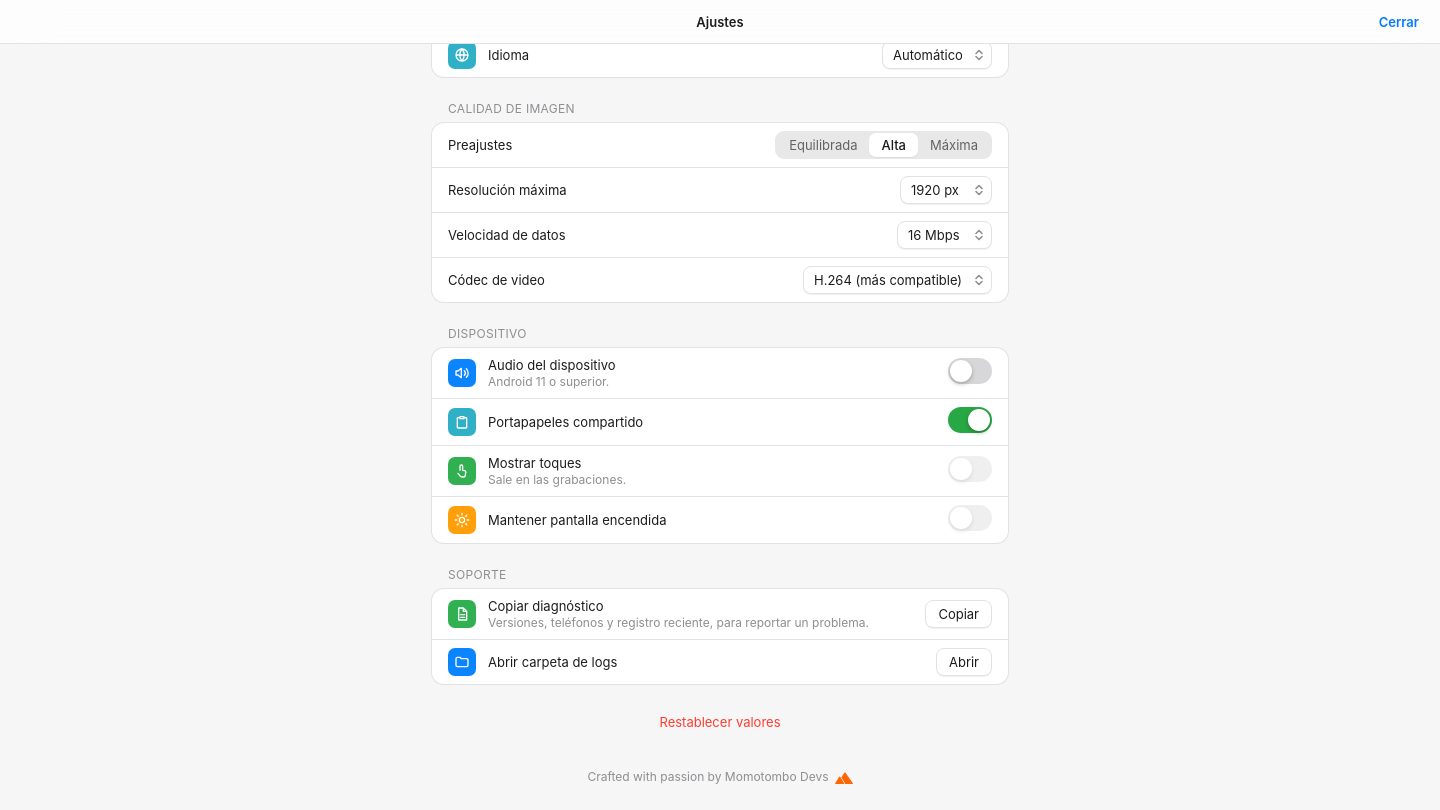
it: SettingsPanel › copies the diagnostic report and confirms it on the button
The width and height of the screenshot is (1440, 810).
(page scrolled)
Click the button with aria-label "Copiar diagnóstico" at (959, 614), box [925,600,992,628]
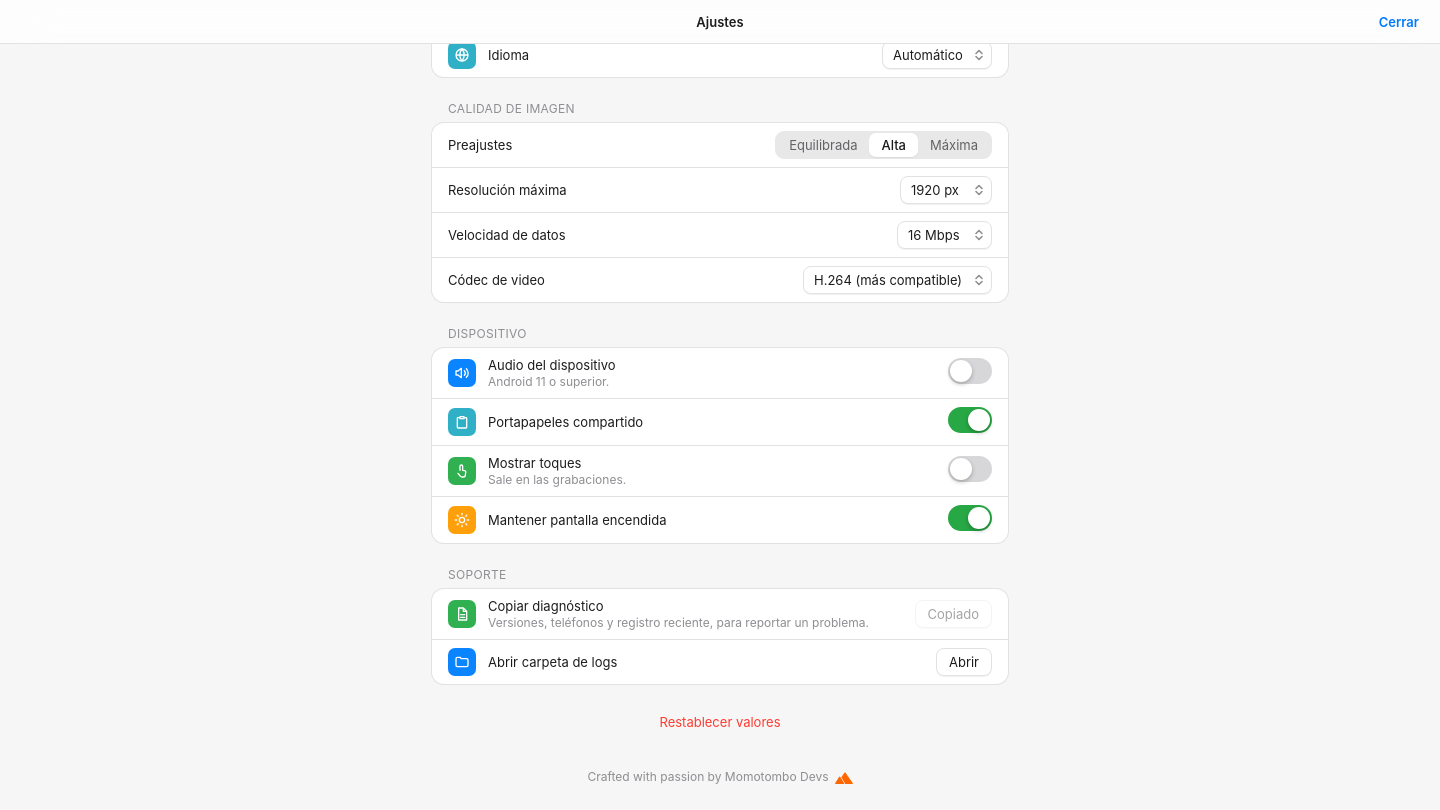
Check: the button "Copiado" is shown, box [914,600,992,628]
